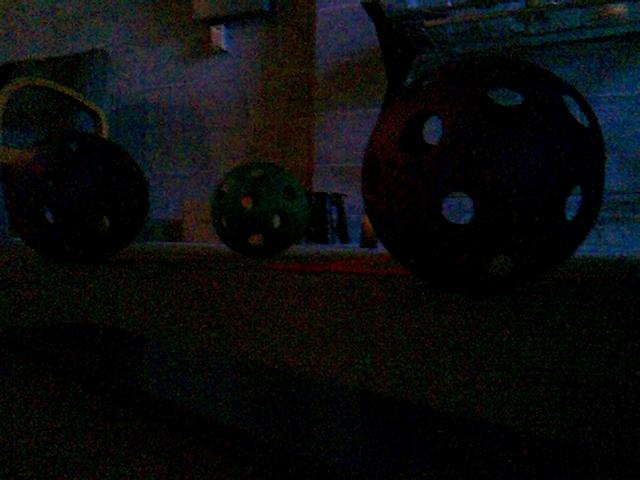Green: (209, 160, 309, 258)
Purple: (361, 55, 603, 294), (6, 133, 150, 258)
